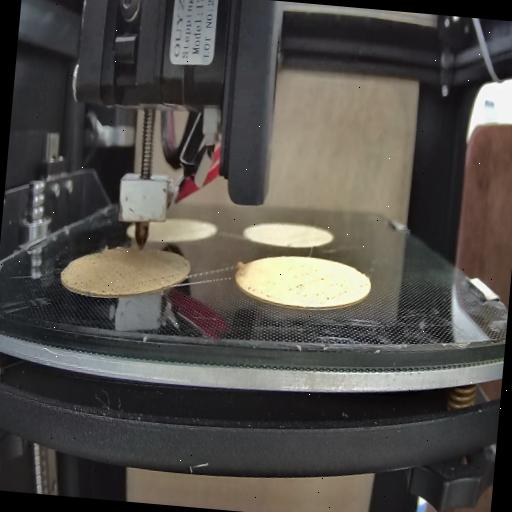under_extrusion: (246, 273, 350, 307), (102, 268, 174, 299), (60, 265, 94, 290)
